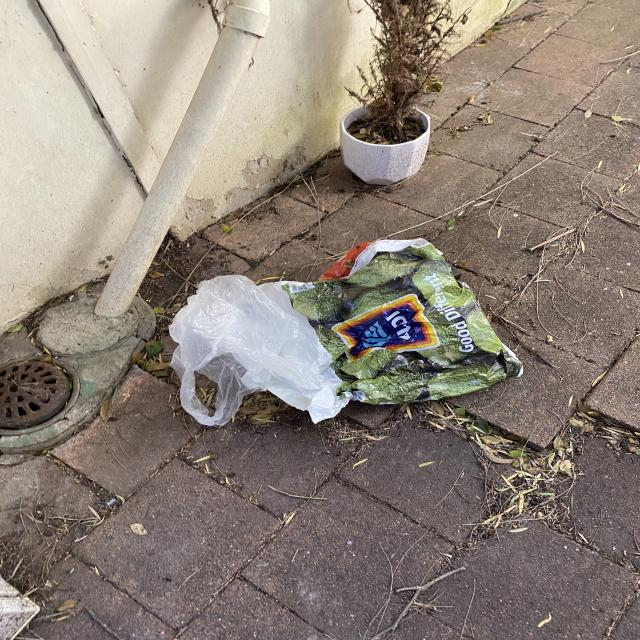bag: (282, 239, 526, 405), (169, 275, 321, 427)
